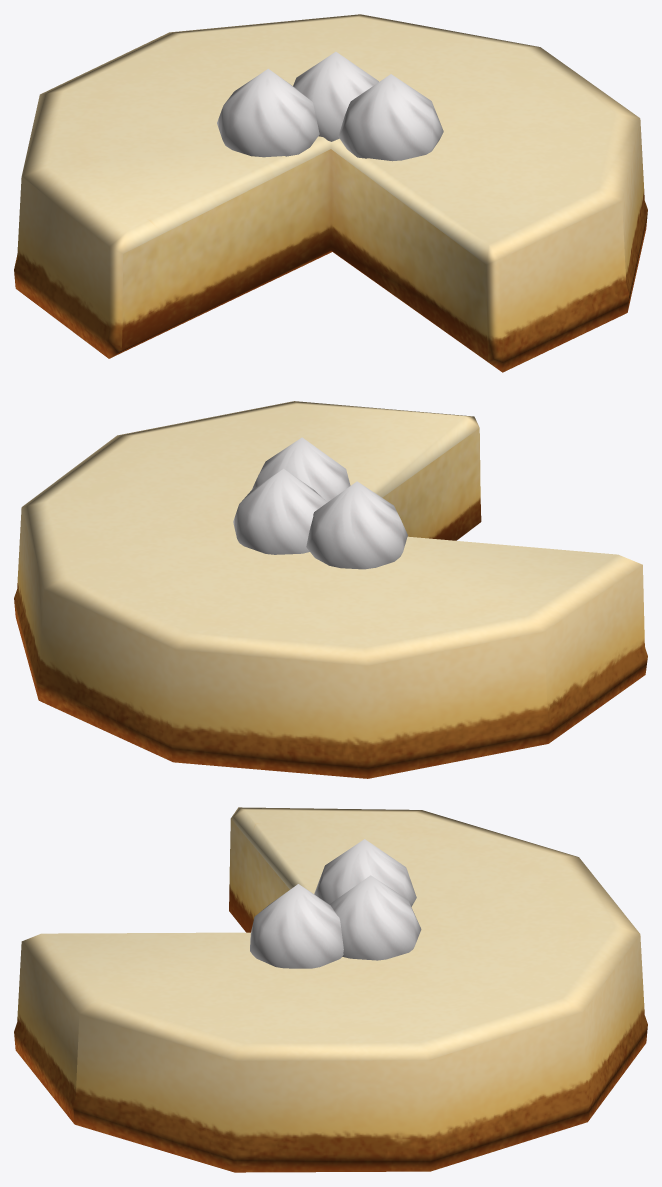
Rendered from Plain_Cheesecake_Cut.fbx.
The picture shows the model from 3 angles, top to bottom: view 1: azimuth 30°, elevation 25°; view 2: azimuth 150°, elevation 25°; view 3: azimuth 270°, elevation 25°; orthographic projection.
Visible parts, largest first — view 1: Plain_Cheesecake_Cut; view 2: Plain_Cheesecake_Cut; view 3: Plain_Cheesecake_Cut.
Part boxes in pixels (x1,y1,x2,y2): Plain_Cheesecake_Cut: (14,14,647,372); Plain_Cheesecake_Cut: (14,401,647,778); Plain_Cheesecake_Cut: (14,807,647,1172).
Bounding box in the file's own units: 79.53 × 26.46 × 82.4.
